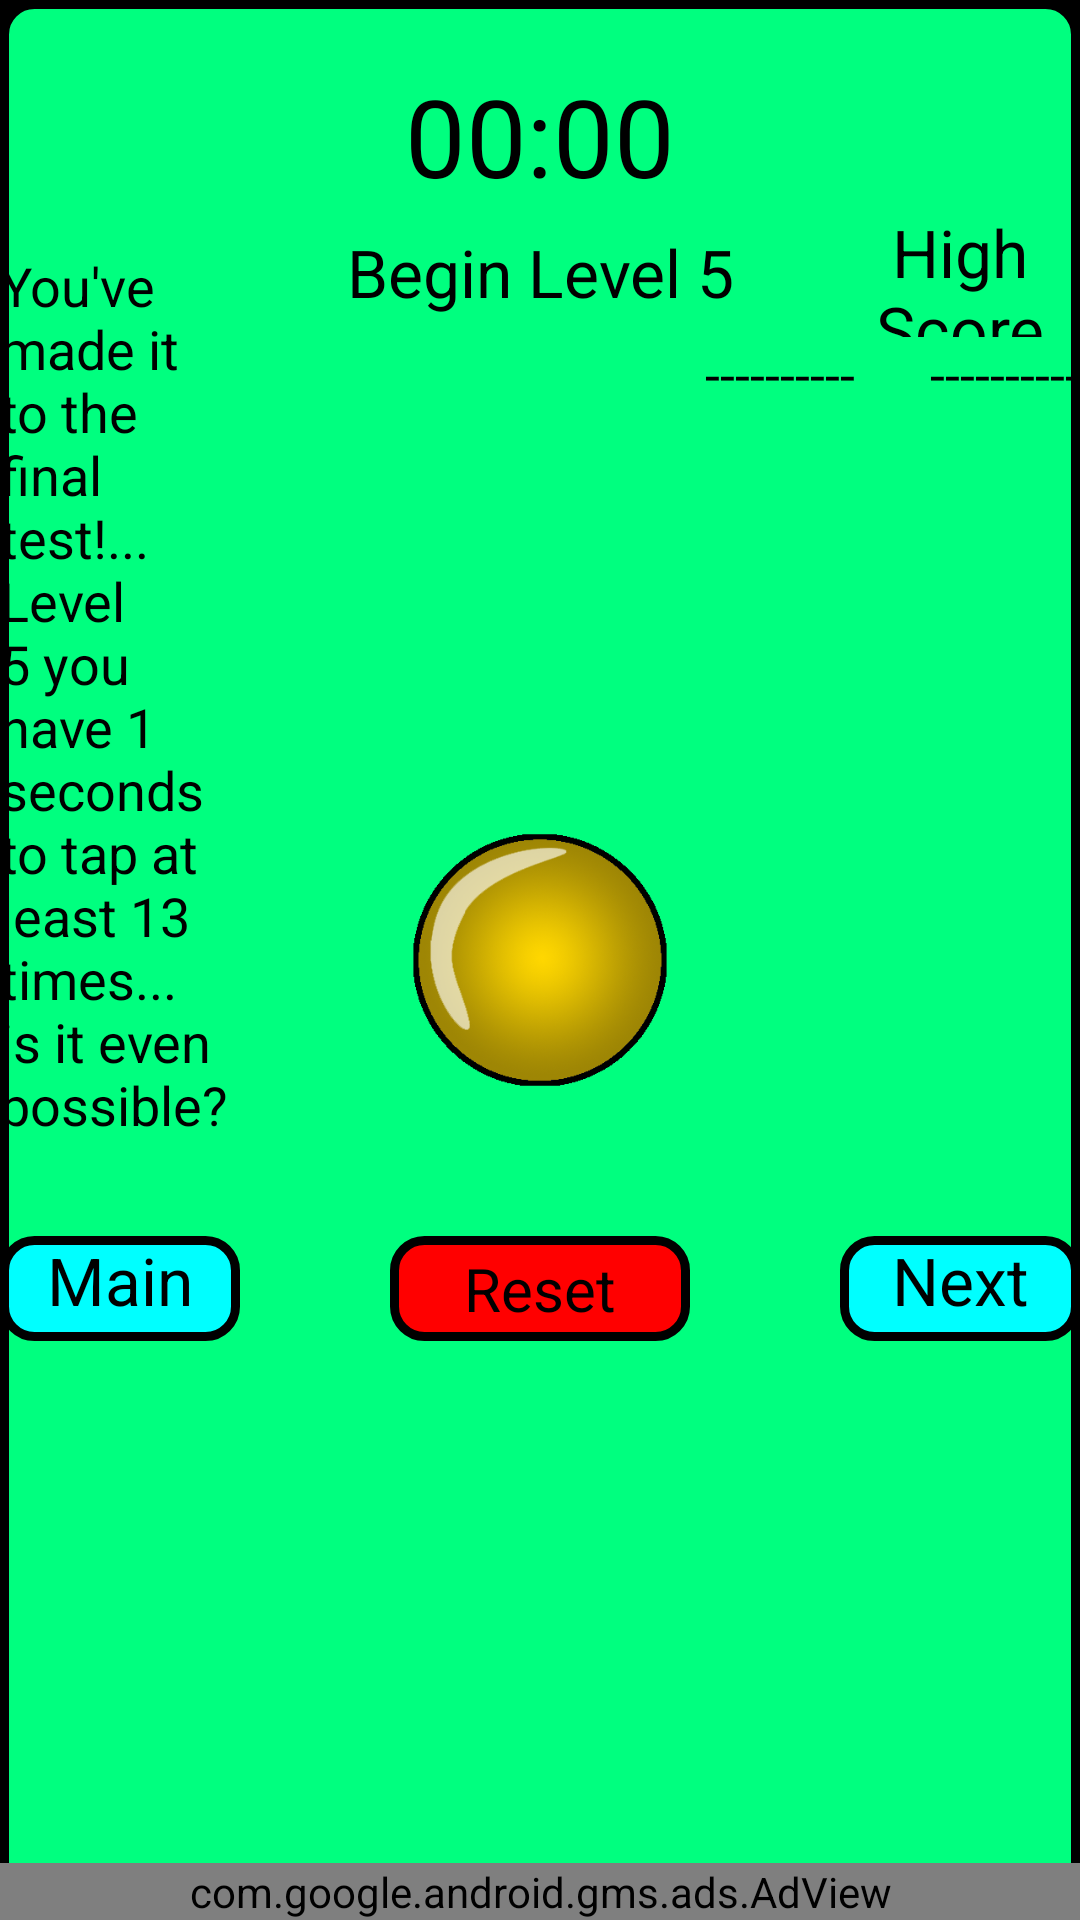

Icons on this 1080*1920 Android screen, each with its box as [x1, y1, x2, y2]:
goldbutton: [413, 834, 667, 1086]
